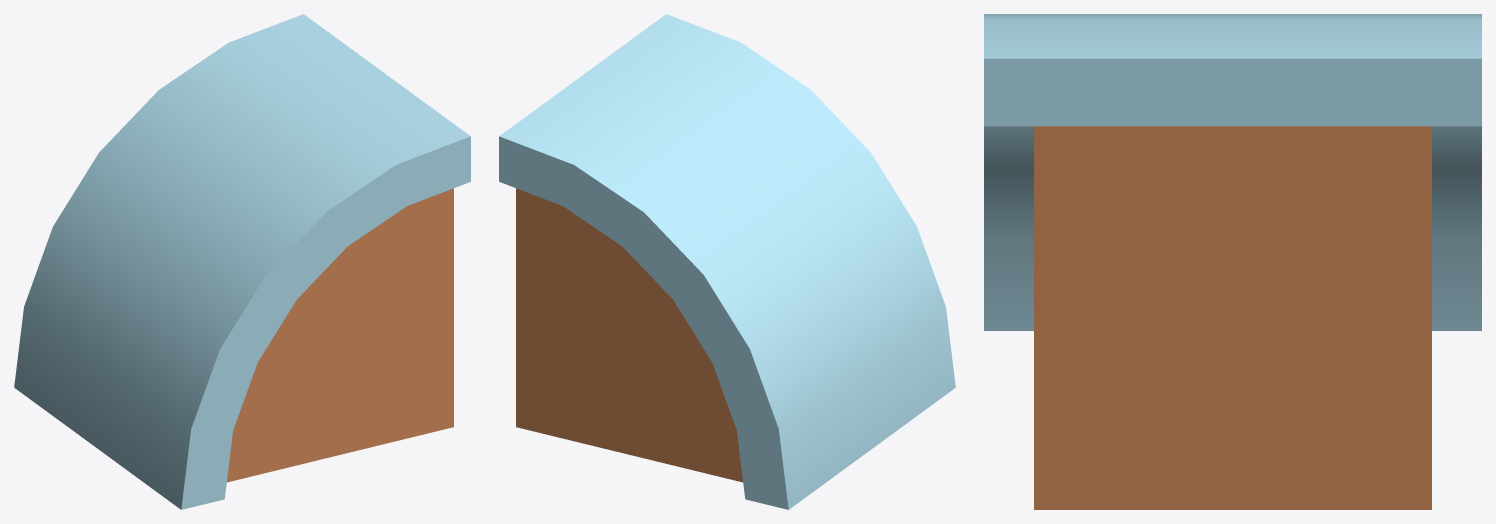
The model's file is blockSnowCurveHalf.obj.
3 renders of one model, left to right at view 1: azimuth 30°, elevation 25°; view 2: azimuth 150°, elevation 25°; view 3: azimuth 270°, elevation 25°, orthographic. The views are drawn at different scales.
Visible parts, largest first — view 1: blockSnowCurveHalf; view 2: blockSnowCurveHalf; view 3: blockSnowCurveHalf.
Boxes of the visible parts, box(x1,y1,x2,y2) form: blockSnowCurveHalf: box(14, 14, 470, 509); blockSnowCurveHalf: box(499, 14, 955, 509); blockSnowCurveHalf: box(984, 14, 1481, 509).
Bounding box in the file's own units: 1 × 1 × 1.
